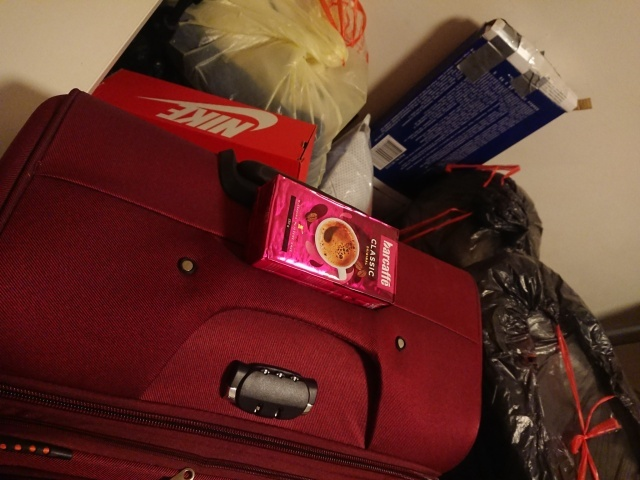Barcaffe Classic Original 225g: (244, 168, 401, 313)
